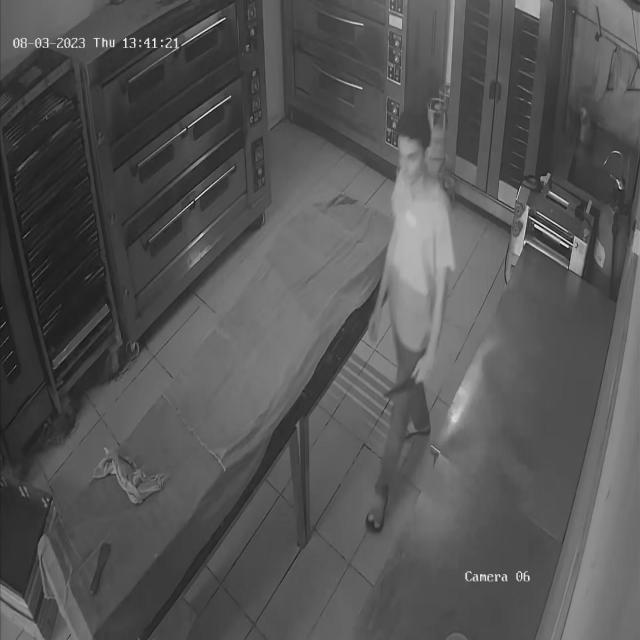Knife: (382, 366, 422, 404)
